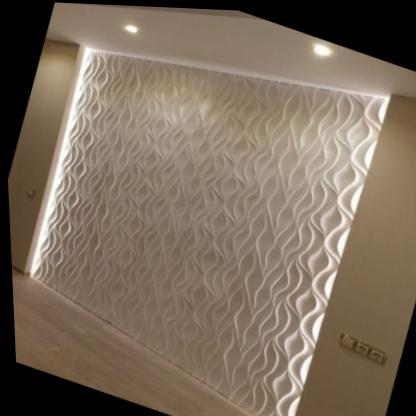Futech tiles: (70, 59, 364, 358)
